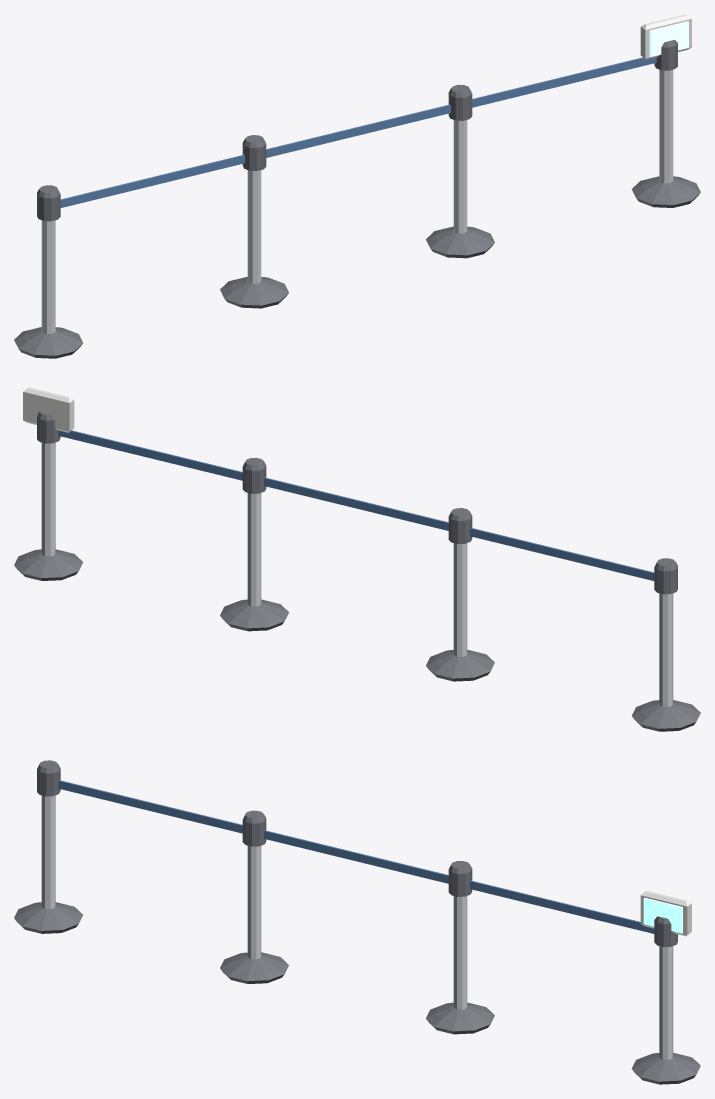
File: airport-terminal-and-ground-operations-queue-barrier-r-0d620e5a.glb
3 views of the same model, one above another, from view 1: azimuth 30°, elevation 25°; view 2: azimuth 150°, elevation 25°; view 3: azimuth 330°, elevation 25° (orthographic).
Parts seen in each view (by area): view 1: queue-barrier-run; view 2: queue-barrier-run; view 3: queue-barrier-run.
Part boxes in pixels (x1,y1,x2,y2): queue-barrier-run: (14,14,700,358); queue-barrier-run: (14,387,700,731); queue-barrier-run: (14,760,700,1084).
Size of the model in its own units: 4.94 by 1.22 by 0.4185.
